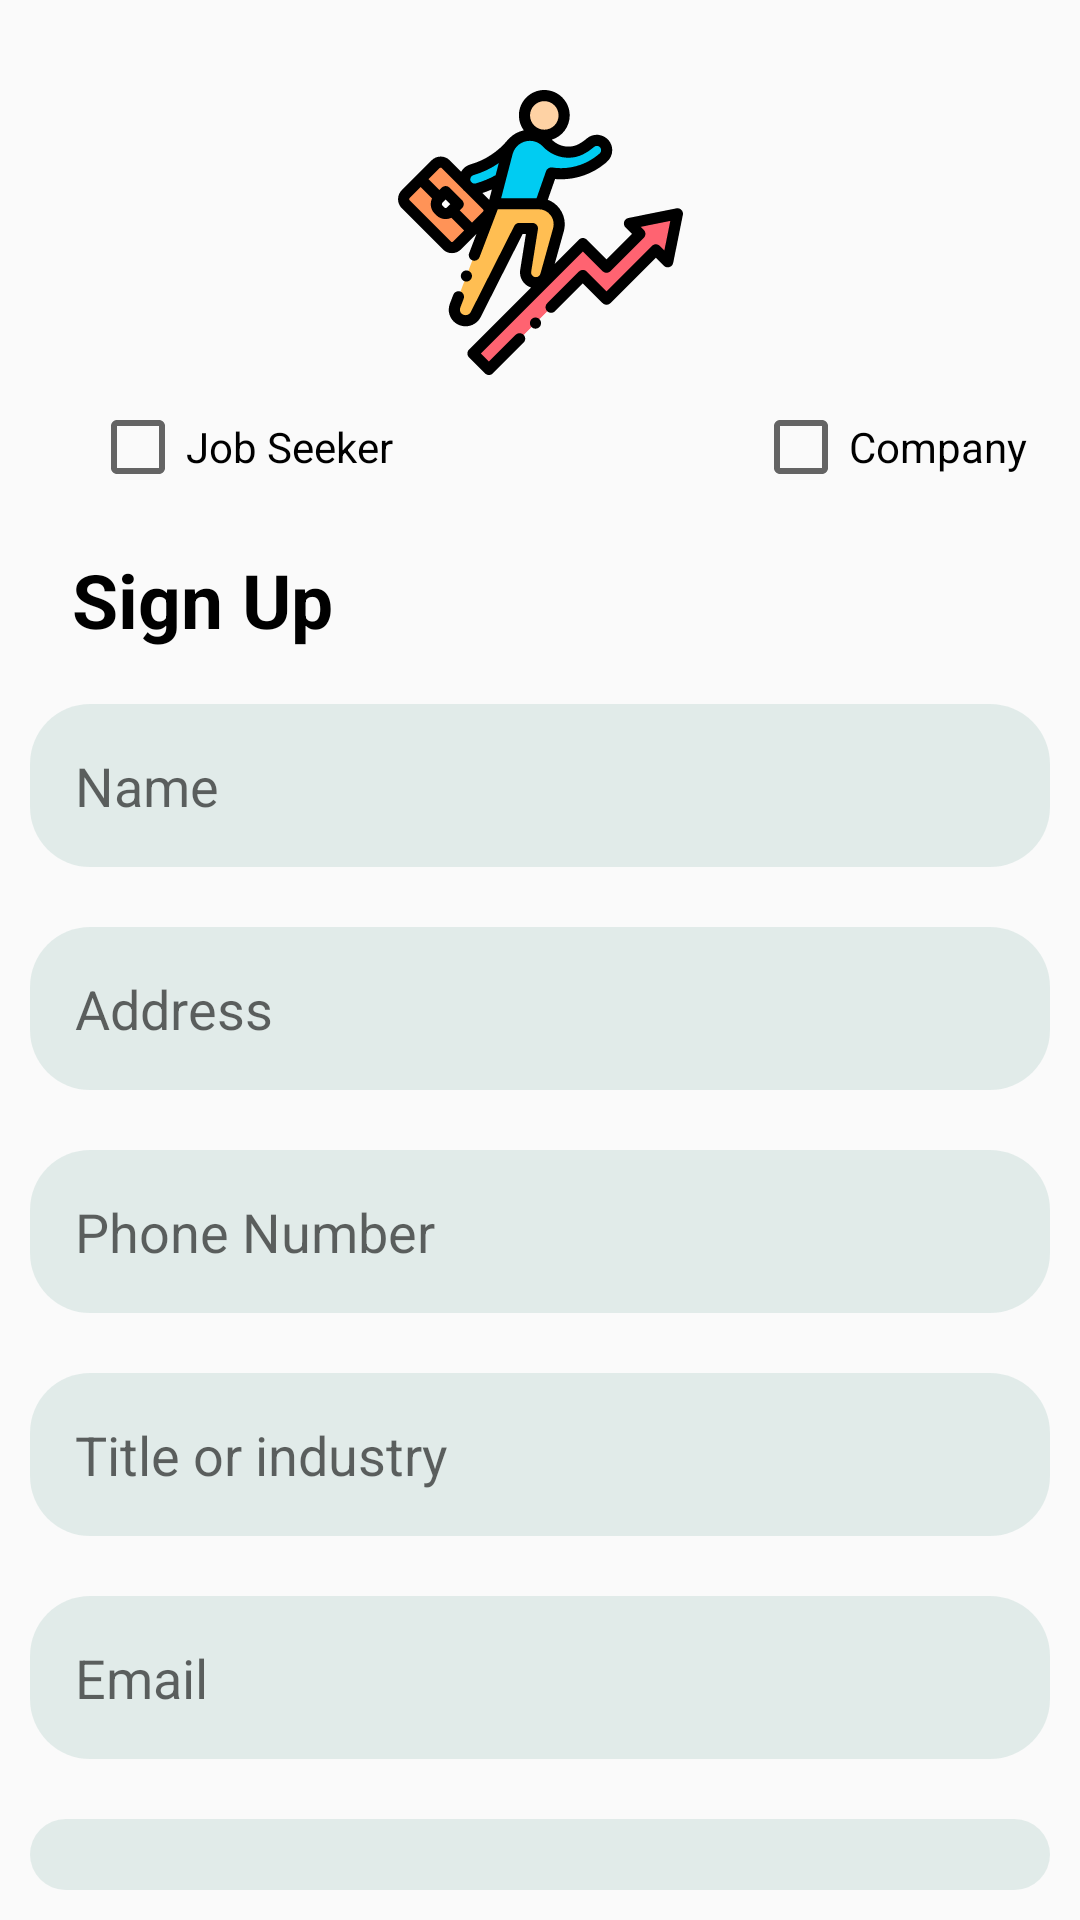

Locate icon controls on the screen. Image size 1080 × 1920, boxes as (x1, y1, x2, y2).
careercolor: (398, 90, 683, 375)
